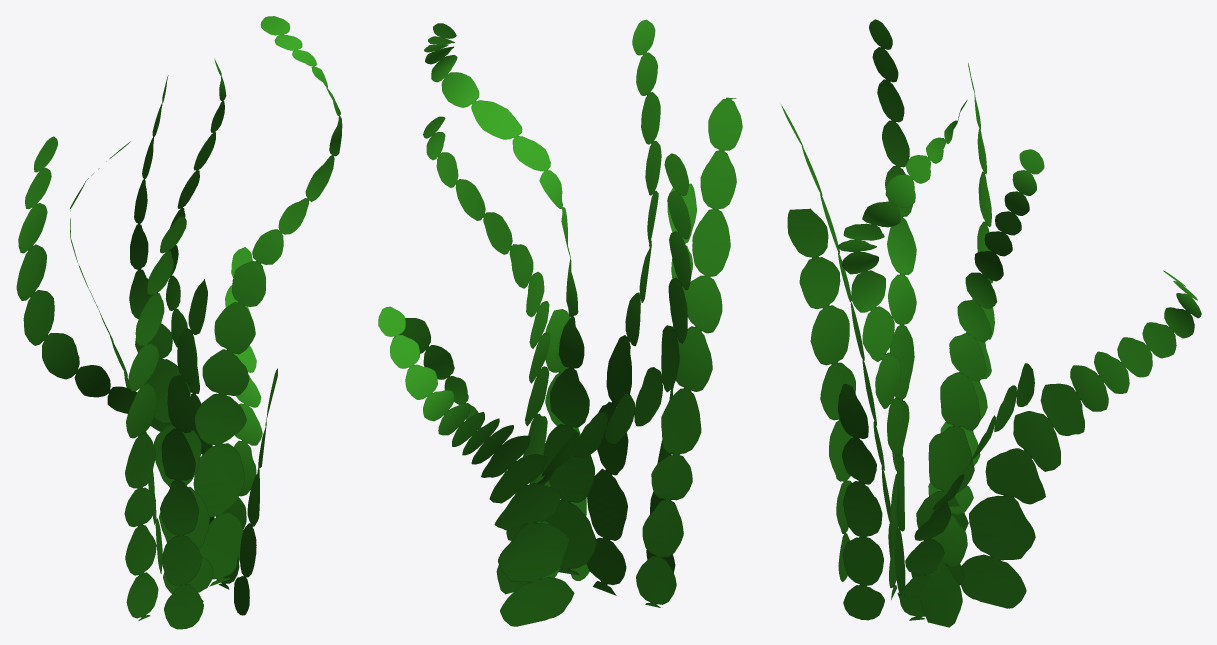
The model's file is 20-Halimeda.fbx.
3 views of the same model, side by side, from view 1: azimuth 30°, elevation 25°; view 2: azimuth 150°, elevation 25°; view 3: azimuth 270°, elevation 25° (orthographic). The views are drawn at different scales.
Visible parts, largest first — view 1: 20-Halimeda_LOD00; view 2: 20-Halimeda_LOD00; view 3: 20-Halimeda_LOD00.
Part boxes in pixels (x1=…): 20-Halimeda_LOD00: x1=16, y1=16, x2=342, y2=629; 20-Halimeda_LOD00: x1=378, y1=19, x2=742, y2=626; 20-Halimeda_LOD00: x1=781, y1=19, x2=1201, y2=627.
Size of the model in its own units: 24.61 by 45.9 by 31.07.
